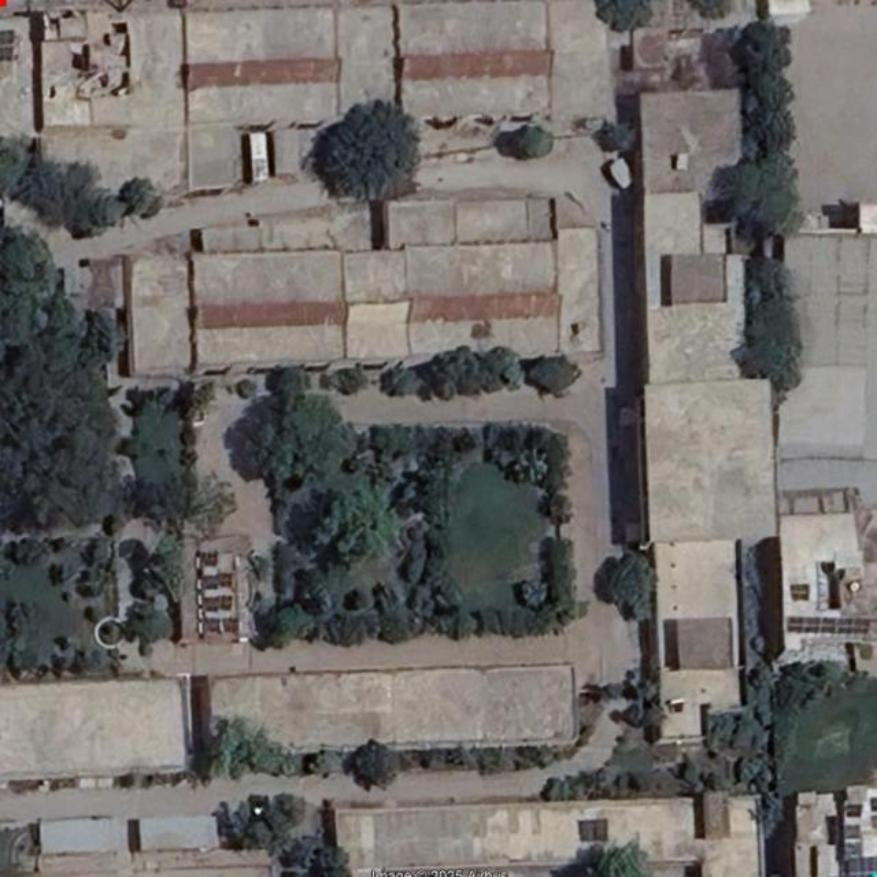Solarpanel: (788, 617, 871, 634), (206, 618, 239, 636), (846, 857, 876, 876), (202, 572, 234, 587), (203, 595, 231, 611), (198, 549, 219, 565), (792, 587, 808, 598)
